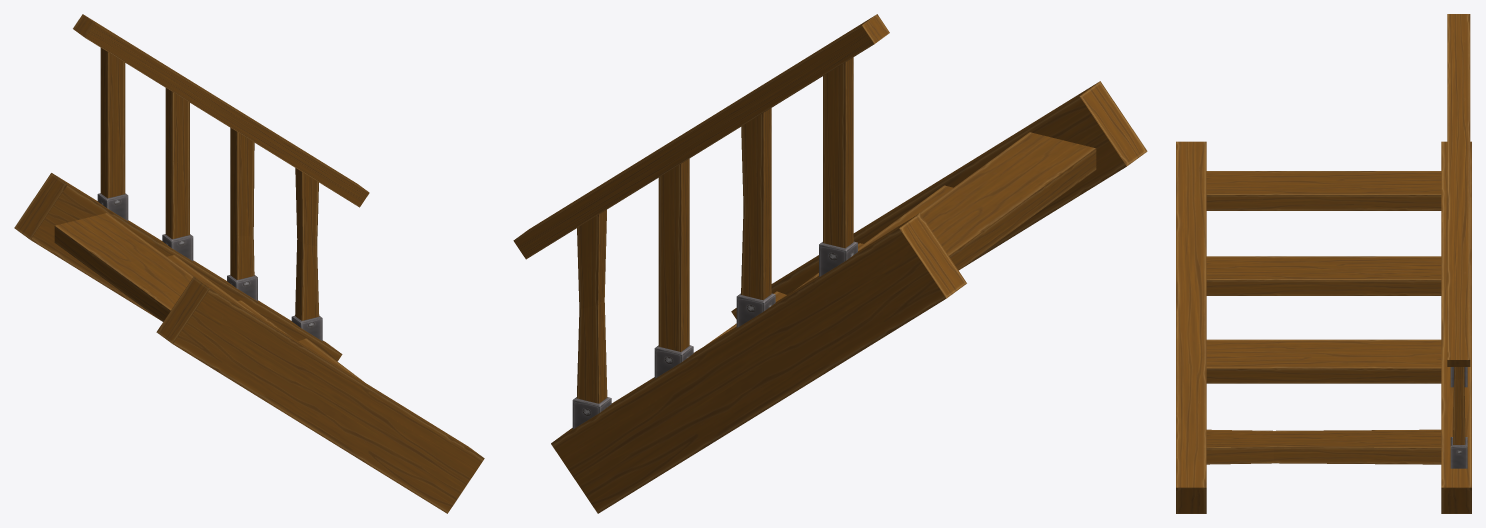
The model's file is SM_Stairs_Exterior_Wood_01_Half.fbx.
The picture shows the model from 3 angles, left to right: view 1: azimuth 30°, elevation 25°; view 2: azimuth 150°, elevation 25°; view 3: azimuth 270°, elevation 25°; orthographic projection. The views are drawn at different scales.
Visible parts, largest first — view 1: SM_Stairs_Exterior_Wood_01_Half; view 2: SM_Stairs_Exterior_Wood_01_Half; view 3: SM_Stairs_Exterior_Wood_01_Half.
Boxes of the visible parts, <box> form: SM_Stairs_Exterior_Wood_01_Half: <box>14,14,484,513</box>; SM_Stairs_Exterior_Wood_01_Half: <box>513,14,1147,513</box>; SM_Stairs_Exterior_Wood_01_Half: <box>1176,14,1471,513</box>.
Bounding box in the file's own units: 2.12 × 2.57 × 1.7.
